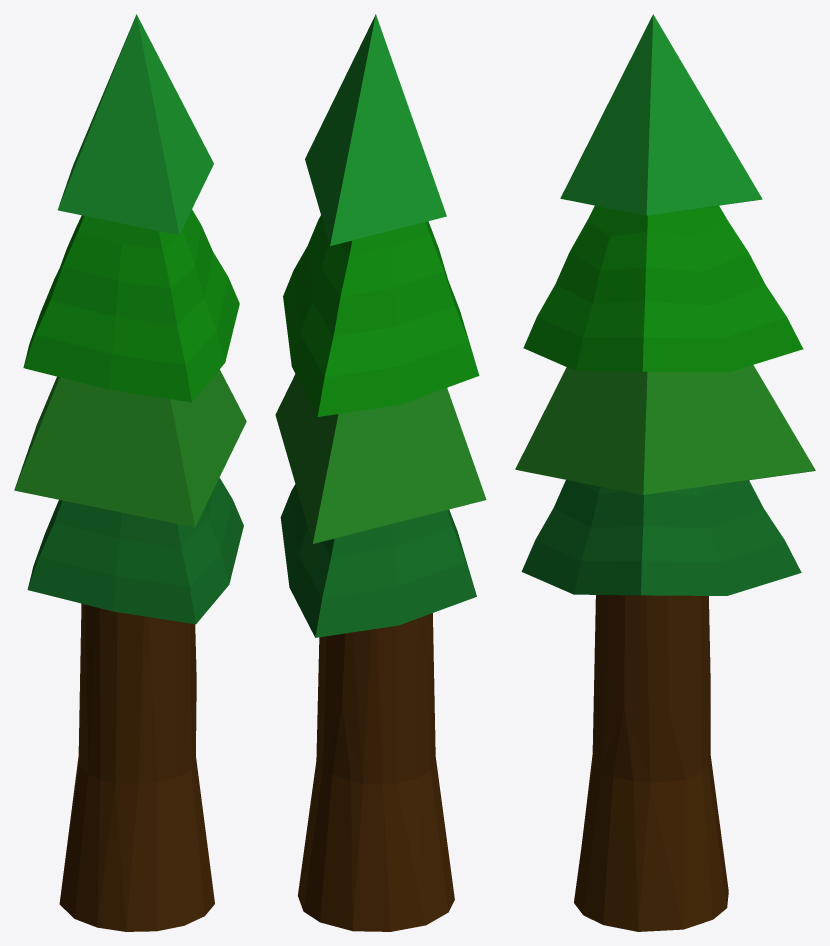
Rendered from pine.fbx.
The picture shows the model from 3 angles, left to right: view 1: azimuth 30°, elevation 25°; view 2: azimuth 150°, elevation 25°; view 3: azimuth 270°, elevation 25°; orthographic projection.
Visible parts, largest first — view 1: trunk, green.001, green.002, green.003, green; view 2: trunk, green.001, green.002, green, green.003; view 3: trunk, green.001, green.002, green.003, green.
Part boxes in pixels (box(x1,y1,x2,y2)): trunk: box(59, 603, 214, 931); green.001: box(23, 209, 239, 402); green.002: box(14, 369, 246, 527); green.003: box(27, 478, 243, 624); green: box(57, 14, 213, 234); trunk: box(298, 613, 454, 931); green.001: box(283, 215, 479, 416); green.002: box(275, 374, 486, 543); green: box(305, 14, 446, 246); green.003: box(280, 484, 476, 637); trunk: box(574, 595, 728, 931); green.001: box(523, 205, 803, 372); green.002: box(515, 365, 815, 494); green.003: box(521, 480, 801, 595); green: box(560, 14, 762, 215).
Size of the model in its own units: 320 by 1218 by 375.
